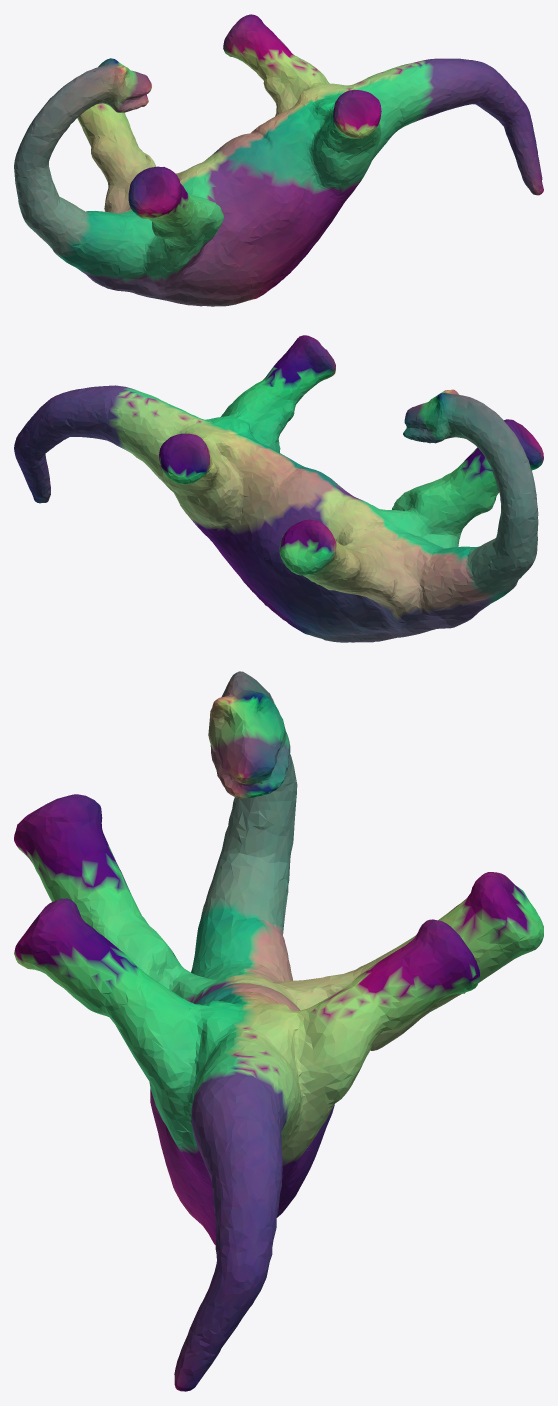
The model's file is dinosaur-14.off.obj.
The picture shows the model from 3 angles, top to bottom: view 1: azimuth 30°, elevation 25°; view 2: azimuth 150°, elevation 25°; view 3: azimuth 270°, elevation 25°; orthographic projection. The views are drawn at different scales.
Bounding box in the file's own units: 1.53 × 0.7704 × 0.8252.
